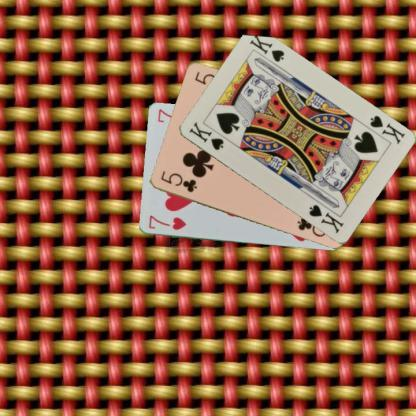5c: (158, 168, 198, 194)
7h: (146, 212, 187, 232)
Ks: (367, 112, 406, 146), (186, 119, 225, 152)
